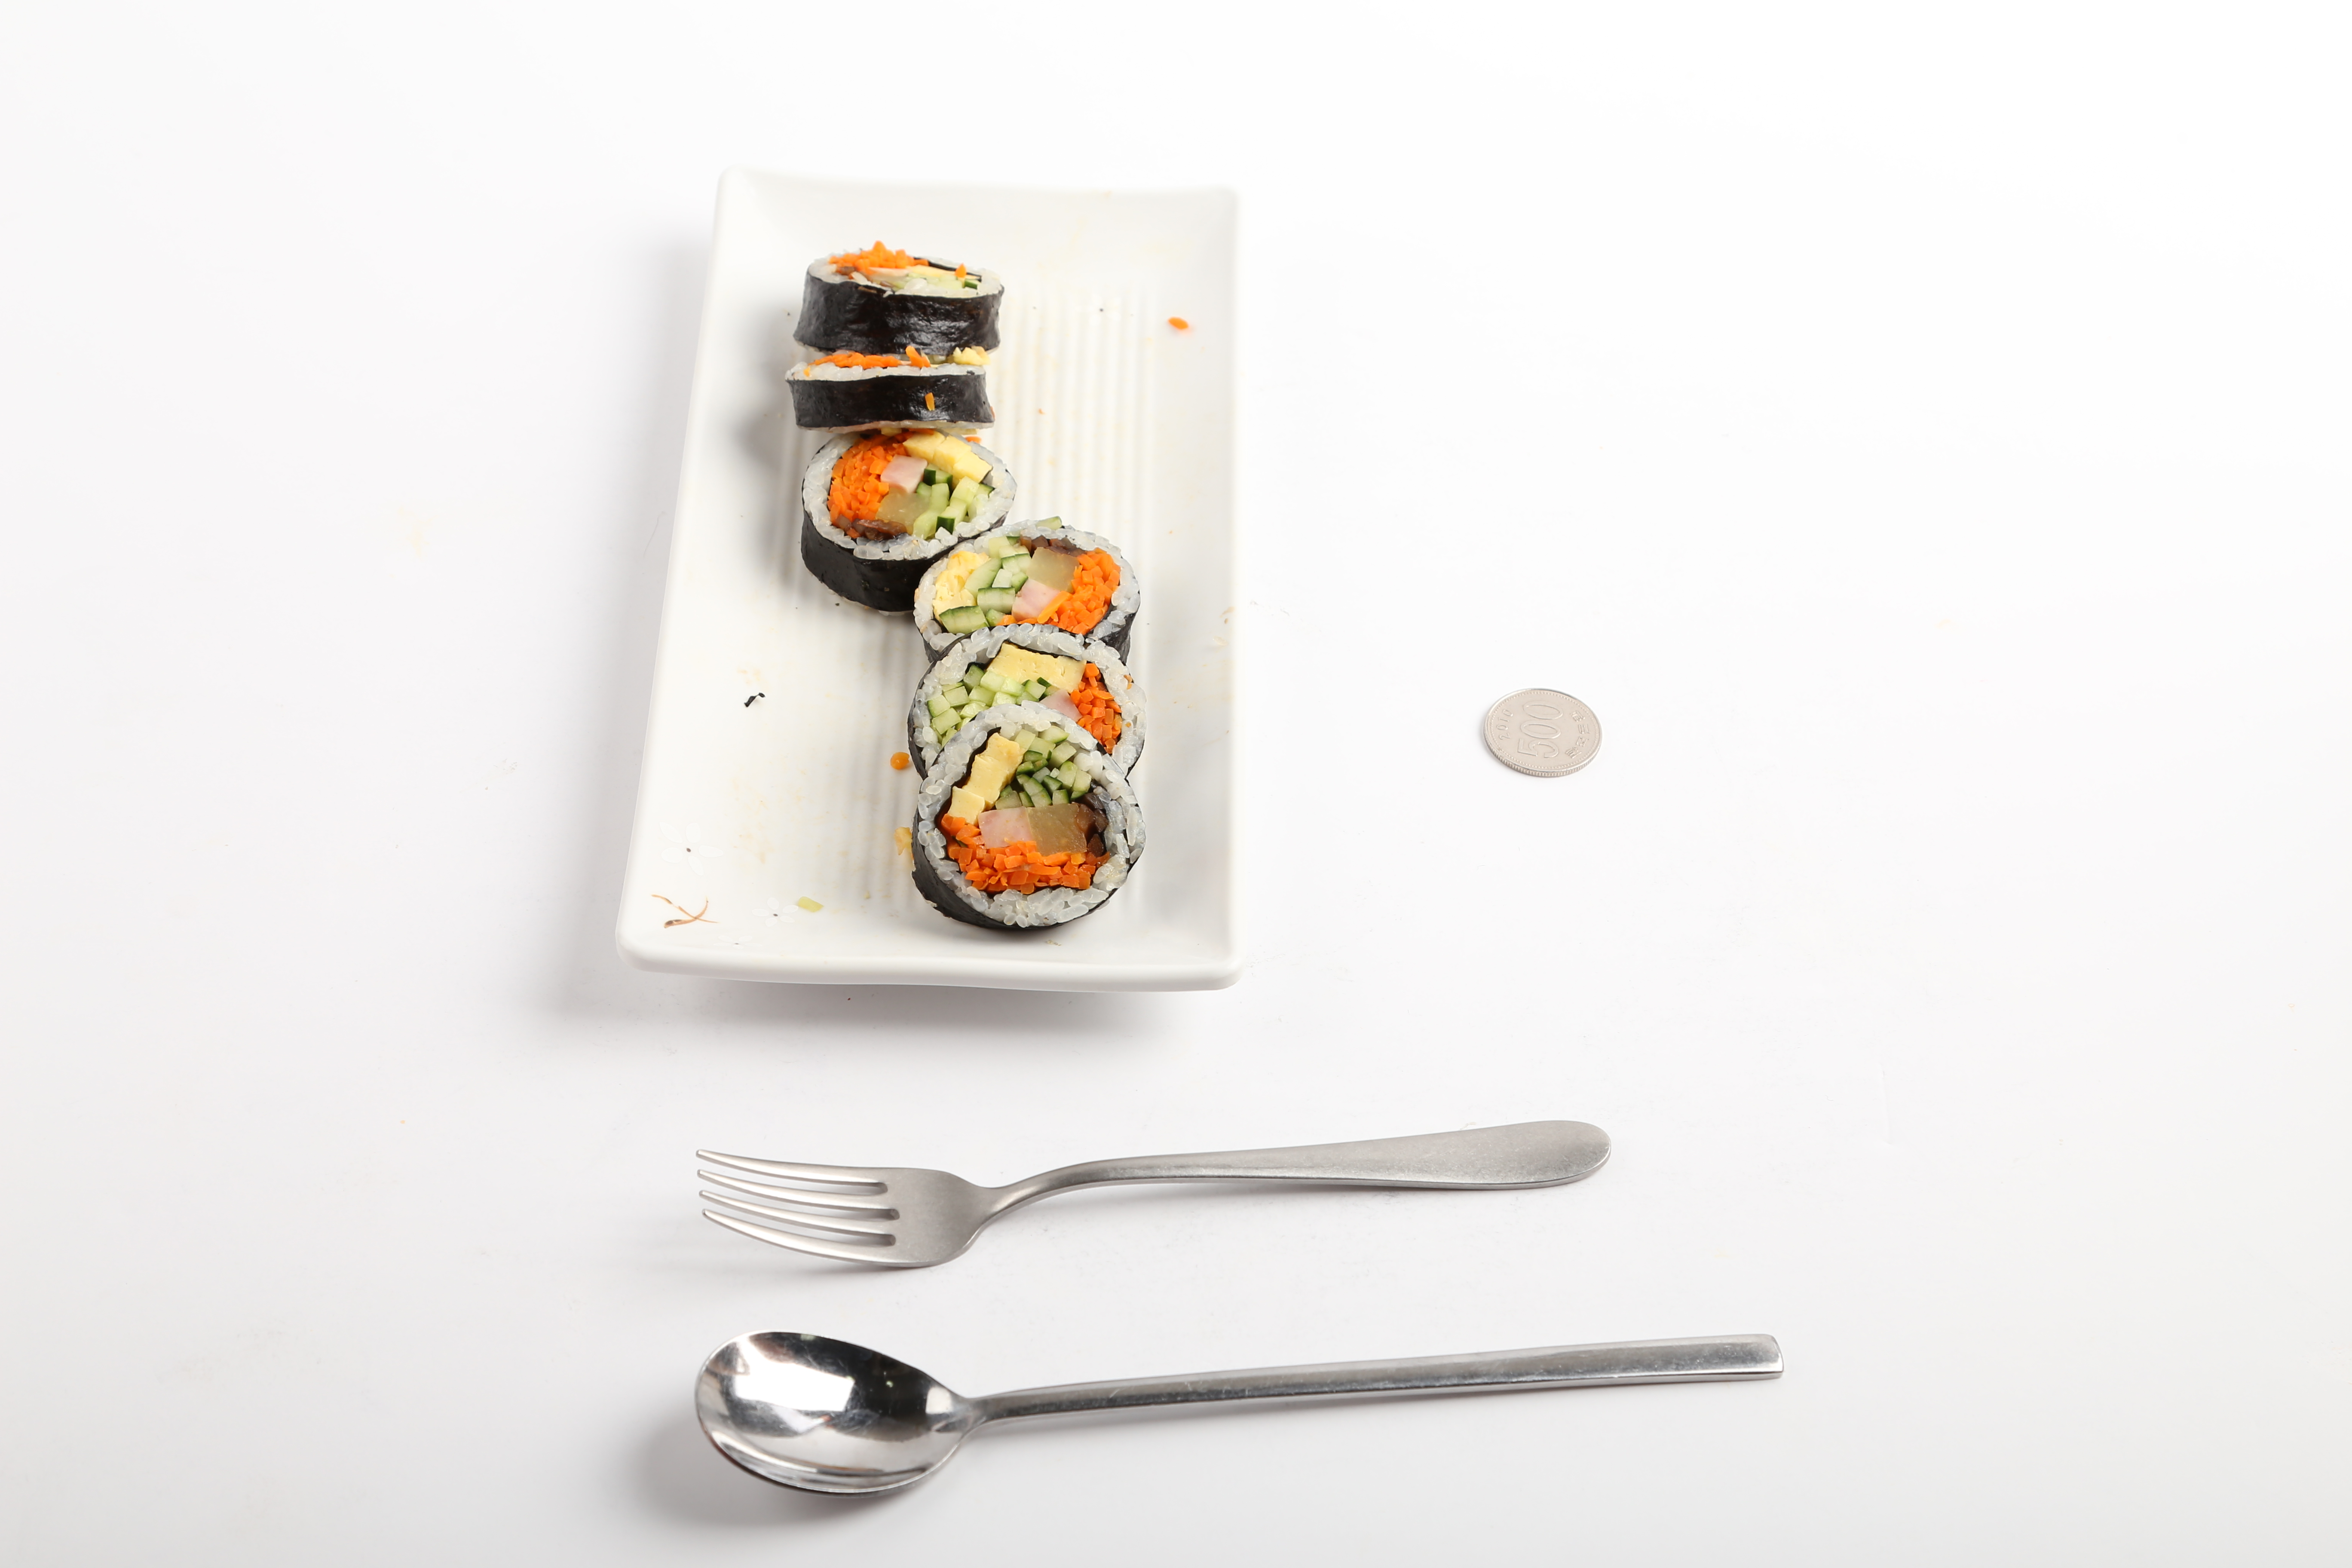dish: (604, 168, 1249, 996)
ref_coin: (1475, 682, 1605, 779)
ref_fork: (693, 1132, 1052, 1274)
ref_spoon: (693, 1318, 1080, 1507)
김밥: (787, 236, 1155, 938)
